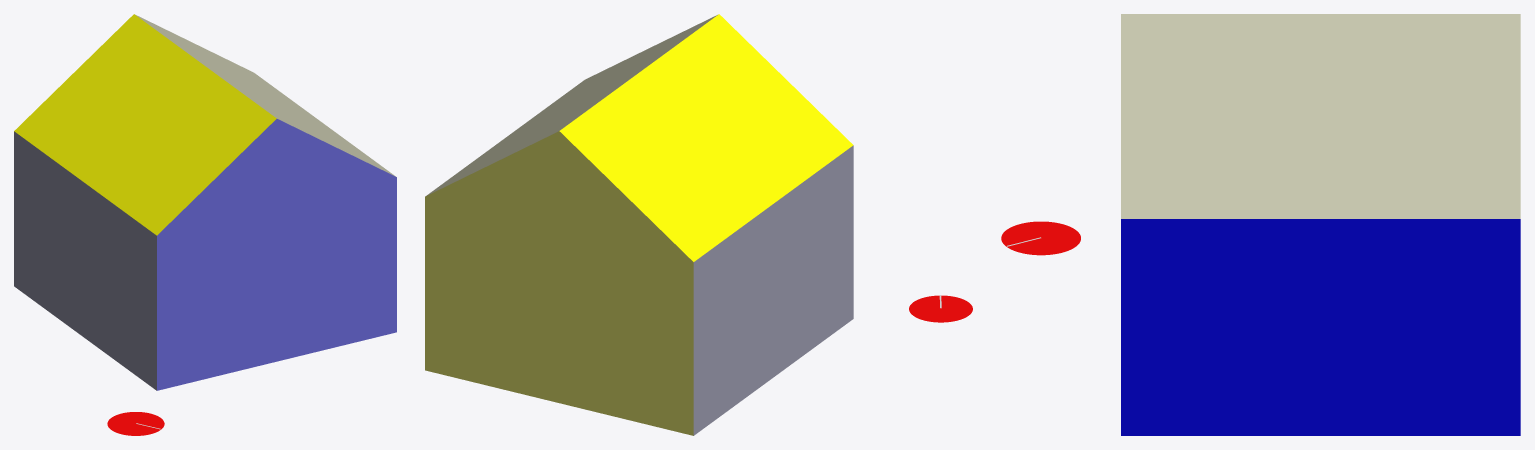
Rendered from result.glb.
3 renders of one model, left to right at view 1: azimuth 30°, elevation 25°; view 2: azimuth 150°, elevation 25°; view 3: azimuth 270°, elevation 25°, orthographic. The views are drawn at different scales.
Visible parts, largest first — view 1: 9b8476ef-dd9c-4150-9c47-e663898de7ae__undefined, cec71df7-4abd-4475-8db6-e80108e429ae__undefined, 70d3186f-1d43-4d4d-9f5b-44e0ce69b2b1__undefined, d8ae9ab5-d786-4105-b036-43afcc9244a0__undefined, d1cbd080-51c6-41fb-9787-7e8e2af859e0__Circle; view 2: 71040699-d7a9-4a36-8276-24fa10125f12__undefined, cec71df7-4abd-4475-8db6-e80108e429ae__undefined, 70d3186f-1d43-4d4d-9f5b-44e0ce69b2b1__undefined, d8ae9ab5-d786-4105-b036-43afcc9244a0__undefined, d1cbd080-51c6-41fb-9787-7e8e2af859e0__Circle; view 3: ab48ef0e-3c4f-45d0-81de-538adf475ea7__undefined, d8ae9ab5-d786-4105-b036-43afcc9244a0__undefined, d1cbd080-51c6-41fb-9787-7e8e2af859e0__Circle.
Part boxes in pixels (x1,y1,x2,y2): 9b8476ef-dd9c-4150-9c47-e663898de7ae__undefined: (157, 119, 396, 390); cec71df7-4abd-4475-8db6-e80108e429ae__undefined: (14, 14, 276, 235); 70d3186f-1d43-4d4d-9f5b-44e0ce69b2b1__undefined: (14, 131, 156, 390); d8ae9ab5-d786-4105-b036-43afcc9244a0__undefined: (136, 15, 395, 176); d1cbd080-51c6-41fb-9787-7e8e2af859e0__Circle: (107, 412, 164, 435); 71040699-d7a9-4a36-8276-24fa10125f12__undefined: (425, 131, 693, 435); cec71df7-4abd-4475-8db6-e80108e429ae__undefined: (559, 14, 853, 261); 70d3186f-1d43-4d4d-9f5b-44e0ce69b2b1__undefined: (693, 145, 853, 435); d8ae9ab5-d786-4105-b036-43afcc9244a0__undefined: (426, 15, 717, 195); d1cbd080-51c6-41fb-9787-7e8e2af859e0__Circle: (909, 295, 972, 322); ab48ef0e-3c4f-45d0-81de-538adf475ea7__undefined: (1121, 219, 1520, 435); d8ae9ab5-d786-4105-b036-43afcc9244a0__undefined: (1121, 14, 1520, 218); d1cbd080-51c6-41fb-9787-7e8e2af859e0__Circle: (1001, 221, 1080, 255).
Bounding box in the file's own units: 635 × 469 × 650.
